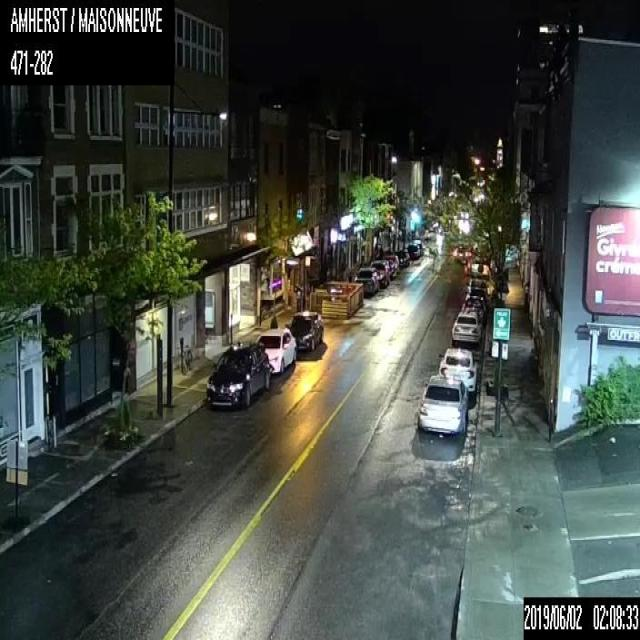pedestrian: (270, 312, 277, 328)
vehicle: (204, 342, 272, 411), (418, 372, 468, 435), (253, 326, 296, 373), (438, 346, 479, 394), (284, 309, 323, 351), (450, 311, 483, 347), (461, 294, 486, 323), (354, 266, 378, 296), (370, 258, 390, 286), (466, 277, 488, 296), (383, 253, 398, 274), (395, 248, 409, 265), (406, 243, 420, 257)
